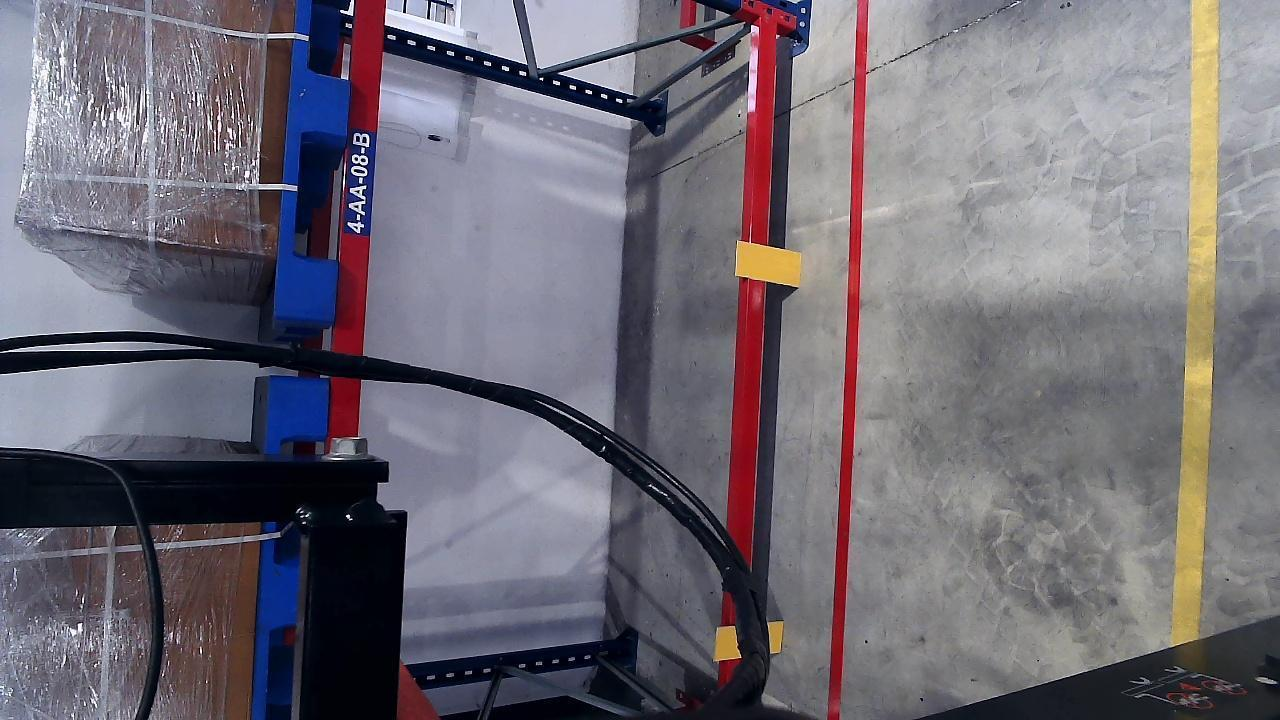red_line: (832, 9, 869, 714)
yellow_line: (1172, 4, 1221, 653)
